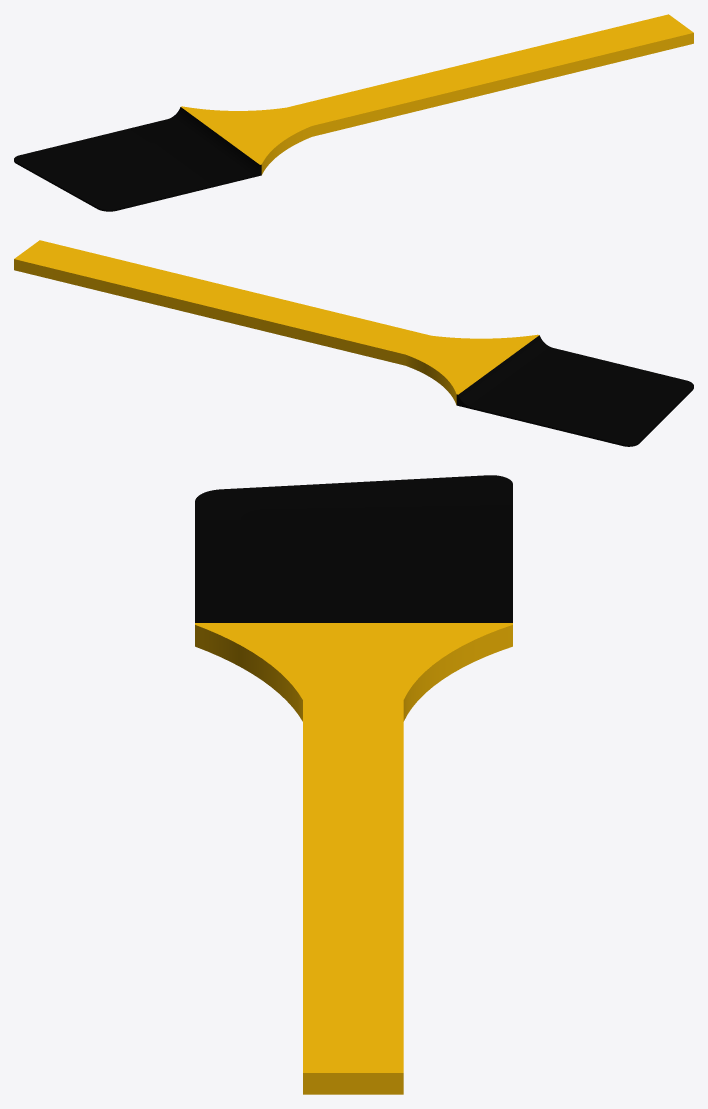
File: turner_04_origin_gt_1.dae
3 views of the same model, one above another, from view 1: azimuth 30°, elevation 25°; view 2: azimuth 150°, elevation 25°; view 3: azimuth 270°, elevation 25° (orthographic). The views are drawn at different scales.
Parts seen in each view (by area): view 1: spatchuler (×2); view 2: spatchuler (×2); view 3: spatchuler (×2).
Boxes of the visible parts, x1,y1,x2,y2 form: spatchuler (×2): (14, 14, 693, 211); spatchuler (×2): (14, 240, 693, 446); spatchuler (×2): (195, 475, 512, 1094).
Size of the model in its own units: 16.47 by 3.59 by 0.2723.
